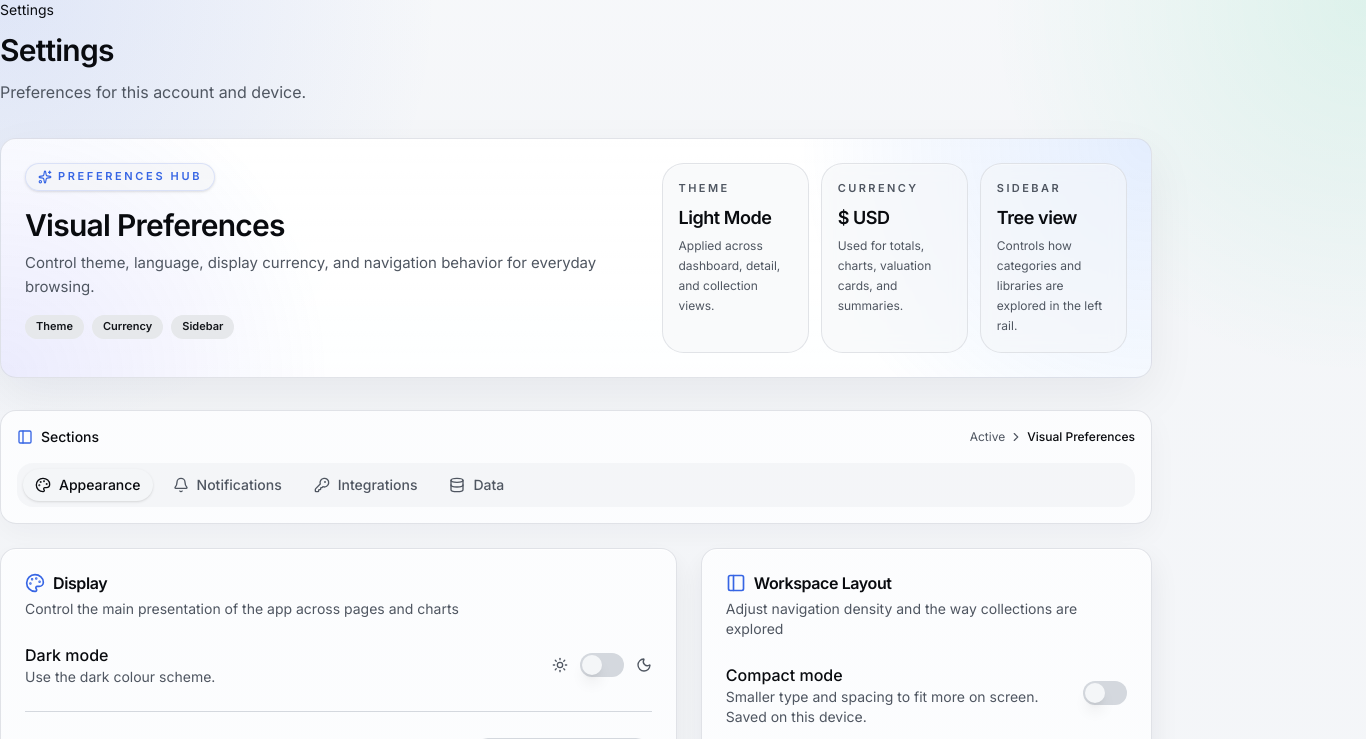
Test: Settings › toggles compact mode on the document and labels every control
Click the switch named "Compact mode" in the row of "Compact mode": coordinates (1105, 693) top-left (1083, 681), bottom-right (1127, 705)
(page scrolled)
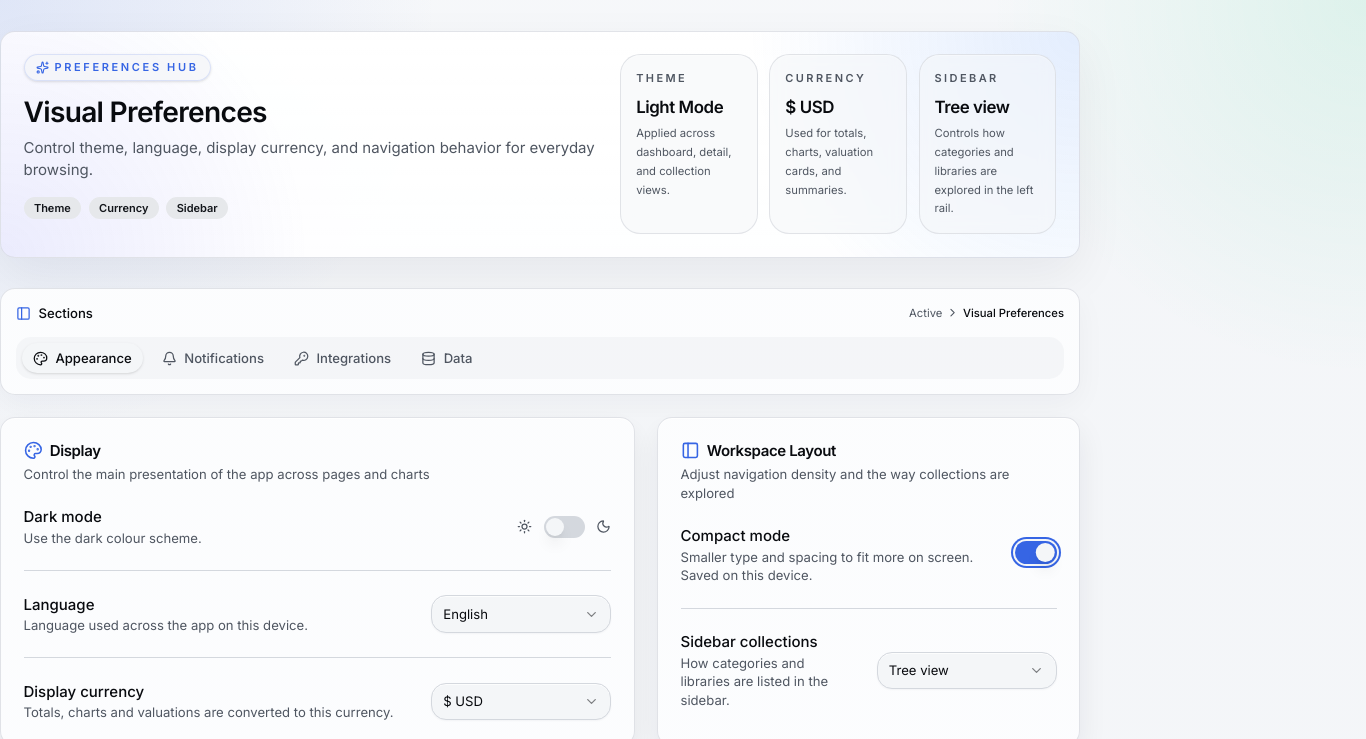
Expected: the switch named "Dark mode" in the row of "Use the dark colour scheme." is shown, top-left (544, 516), bottom-right (585, 538)
Now the dropdown named "Sidebar collections" is shown, box top-left (876, 652), bottom-right (1056, 689)
